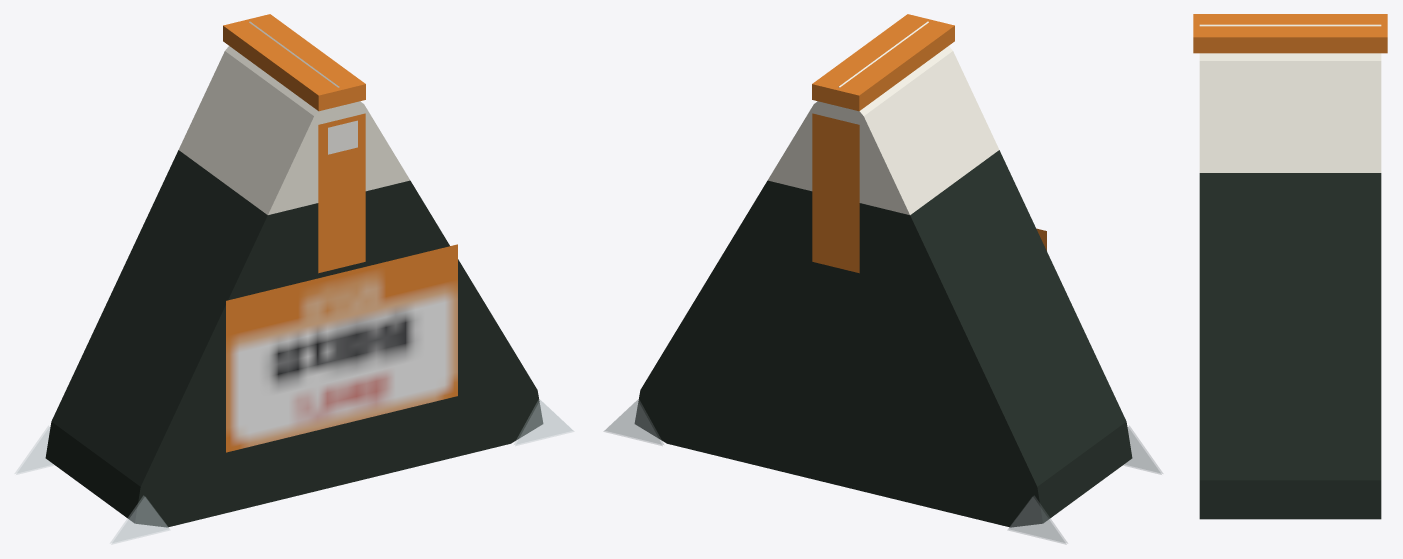
Rendered from SC_Prod_Kimbap_Triangle_TunaMayo.gltf.
The picture shows the model from 3 angles, left to right: view 1: azimuth 30°, elevation 25°; view 2: azimuth 150°, elevation 25°; view 3: azimuth 270°, elevation 25°; orthographic projection.
Parts seen in each view (by area): view 1: SC_Prod_Kimbap_Triangle_TunaMayo; view 2: SC_Prod_Kimbap_Triangle_TunaMayo; view 3: SC_Prod_Kimbap_Triangle_TunaMayo.
Part boxes in pixels (<box>): SC_Prod_Kimbap_Triangle_TunaMayo: <box>15,14,574,544</box>; SC_Prod_Kimbap_Triangle_TunaMayo: <box>603,14,1162,544</box>; SC_Prod_Kimbap_Triangle_TunaMayo: <box>1193,14,1387,519</box>.
Bounding box in the file's own units: 0.108 × 0.0887 × 0.039.
Materials: 3 (3 with a texture image).
